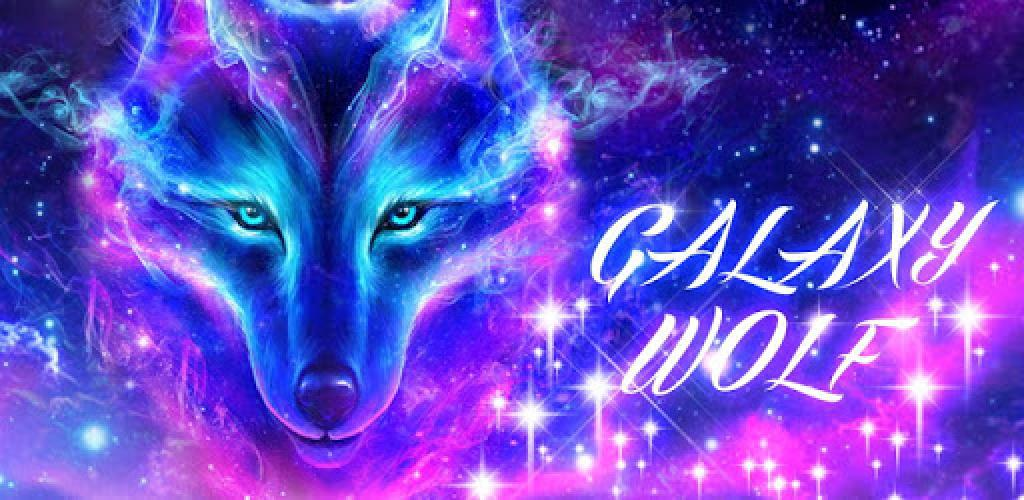Lobo: (88, 27, 593, 479)
